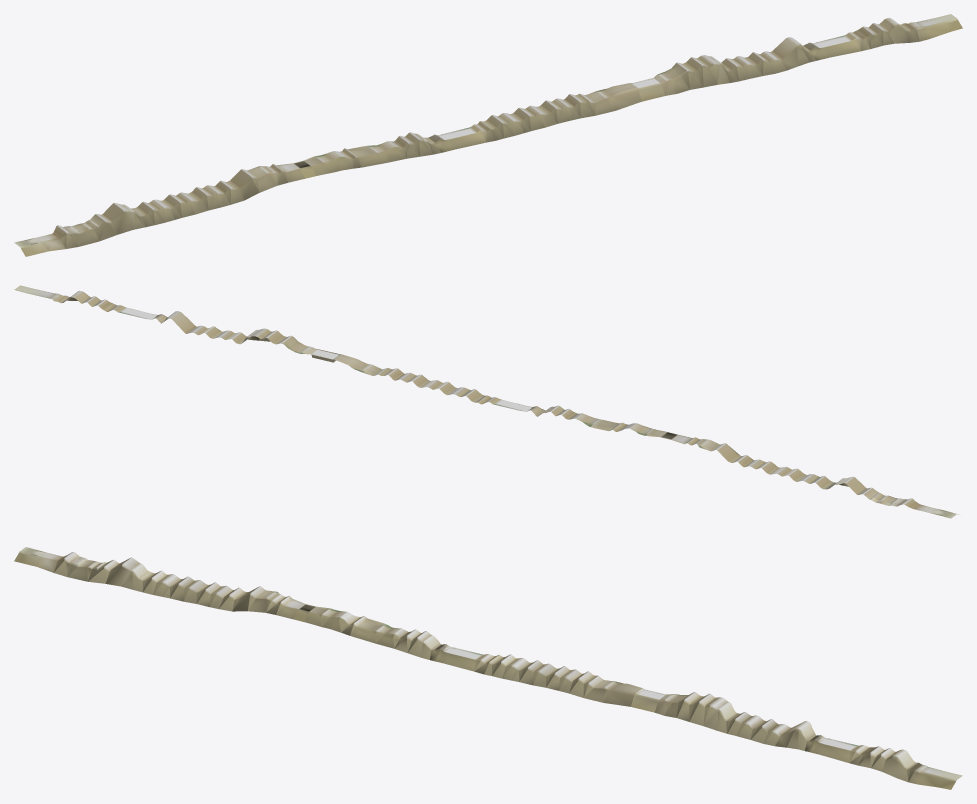
File: Beach_12.fbx
The picture shows the model from 3 angles, top to bottom: view 1: azimuth 30°, elevation 25°; view 2: azimuth 150°, elevation 25°; view 3: azimuth 330°, elevation 25°; orthographic projection.
Visible parts, largest first — view 1: Road_01; view 2: Road_01, Sea_01; view 3: Road_01.
Part boxes in pixels (x1=…): Road_01: x1=14, y1=14, x2=962, y2=256; Road_01: x1=14, y1=285, x2=958, y2=518; Sea_01: x1=122, y1=308, x2=531, y2=411; Road_01: x1=14, y1=547, x2=962, y2=789.
Bounding box in the file's own units: 122316 × 3215 × 3852.
